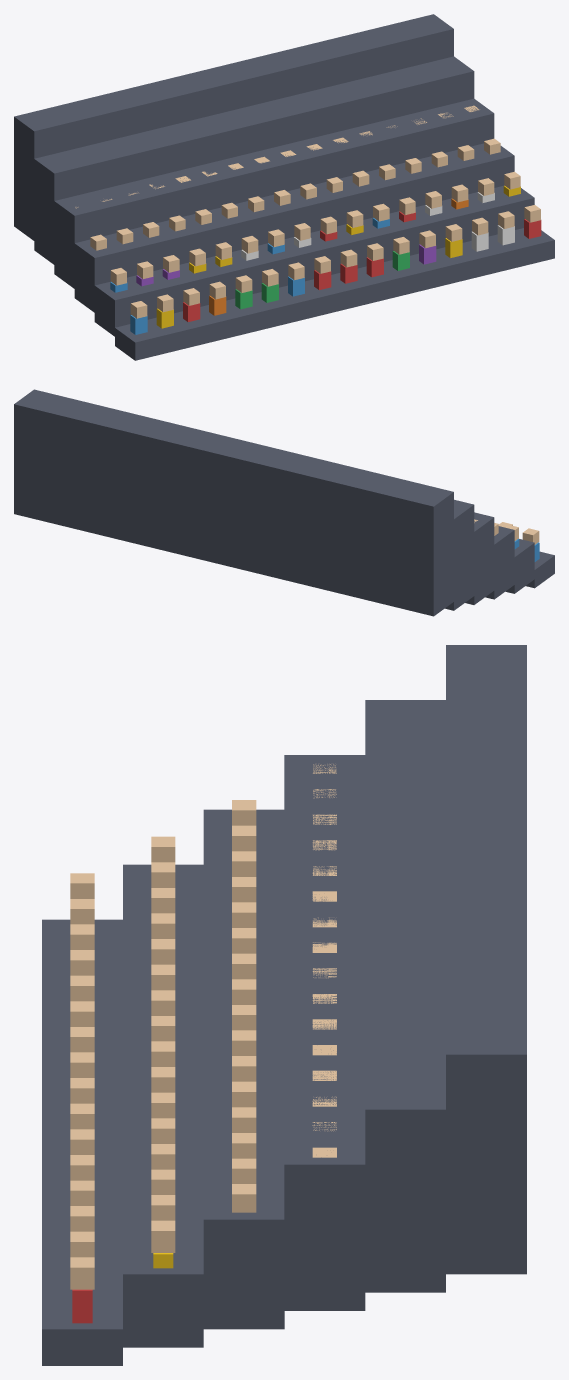
File: stadium_stand.glb
The picture shows the model from 3 angles, top to bottom: view 1: azimuth 30°, elevation 25°; view 2: azimuth 150°, elevation 25°; view 3: azimuth 270°, elevation 25°; orthographic projection. The views are drawn at different scales.
Parts seen in each view (by area): view 1: stadium_stand; view 2: stadium_stand; view 3: stadium_stand.
Part boxes in pixels (x1,y1,x2,y2): stadium_stand: (14, 14, 554, 360); stadium_stand: (14, 389, 554, 616); stadium_stand: (42, 645, 526, 1365).
Size of the model in its own units: 12 by 4.25 by 6.
